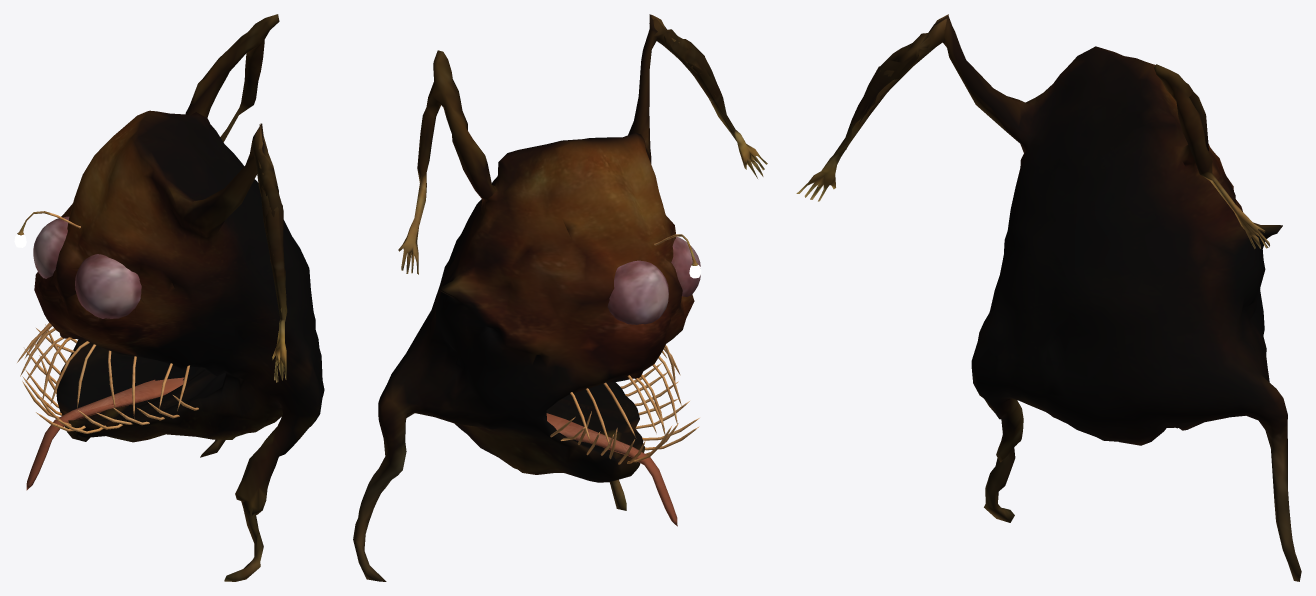
The model's file is angler.glb.
3 renders of one model, left to right at view 1: azimuth 30°, elevation 25°; view 2: azimuth 150°, elevation 25°; view 3: azimuth 270°, elevation 25°, orthographic. The views are drawn at different scales.
Visible parts, largest first — view 1: tmpnb_qtv19.001; view 2: tmpnb_qtv19.001; view 3: tmpnb_qtv19.001.
Boxes of the visible parts, left/top/right/bottom form: tmpnb_qtv19.001: left=14, top=14, right=324, bottom=581; tmpnb_qtv19.001: left=353, top=14, right=767, bottom=581; tmpnb_qtv19.001: left=796, top=14, right=1301, bottom=581.
Size of the model in its own units: 1.1 by 1.78 by 1.59.
Materials: 3 (2 with a texture image).
